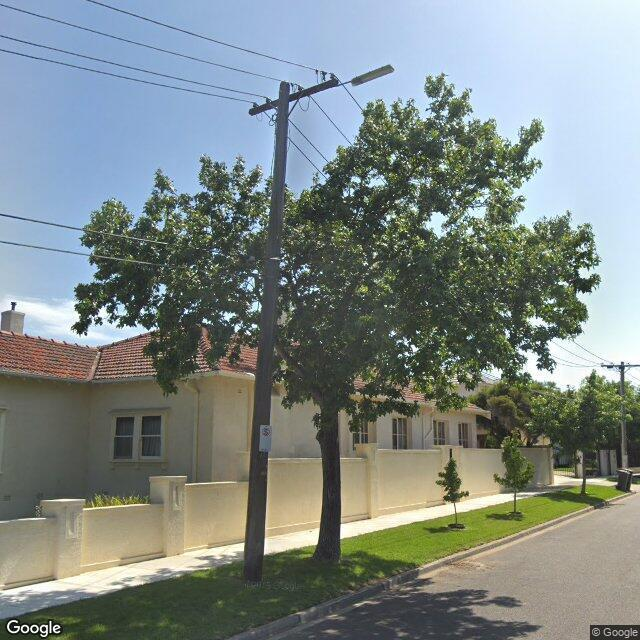crossarm: (248, 69, 339, 116), (601, 364, 640, 369)
streetlight: (338, 64, 395, 88)
timber-pole: (243, 80, 292, 582), (620, 361, 626, 470)
